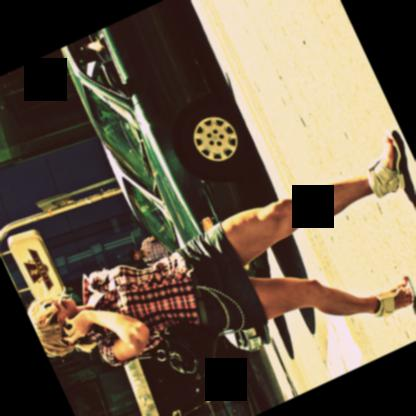handbag: (97, 320, 219, 378)
